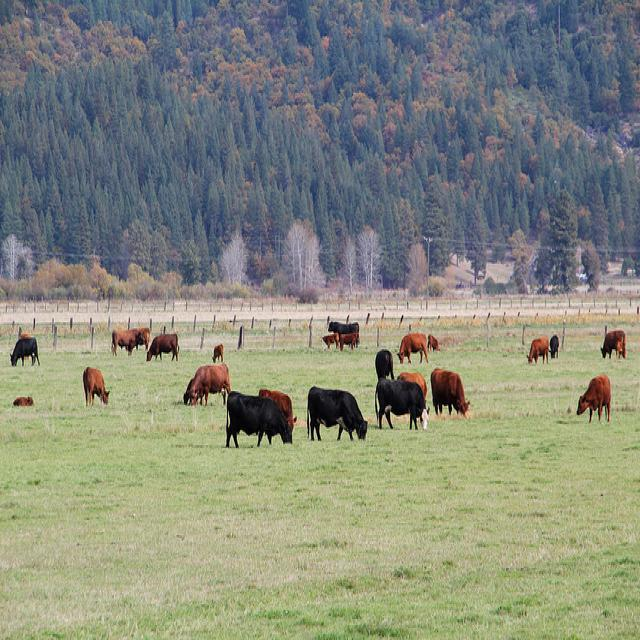cow: (12, 306, 447, 411), (222, 390, 291, 447), (305, 385, 367, 441), (373, 376, 427, 432), (186, 360, 230, 405), (429, 366, 469, 415), (257, 387, 296, 430), (575, 373, 609, 421), (81, 364, 108, 405), (395, 369, 426, 403), (8, 334, 38, 364), (599, 328, 624, 357), (525, 334, 547, 363), (547, 333, 558, 357)
